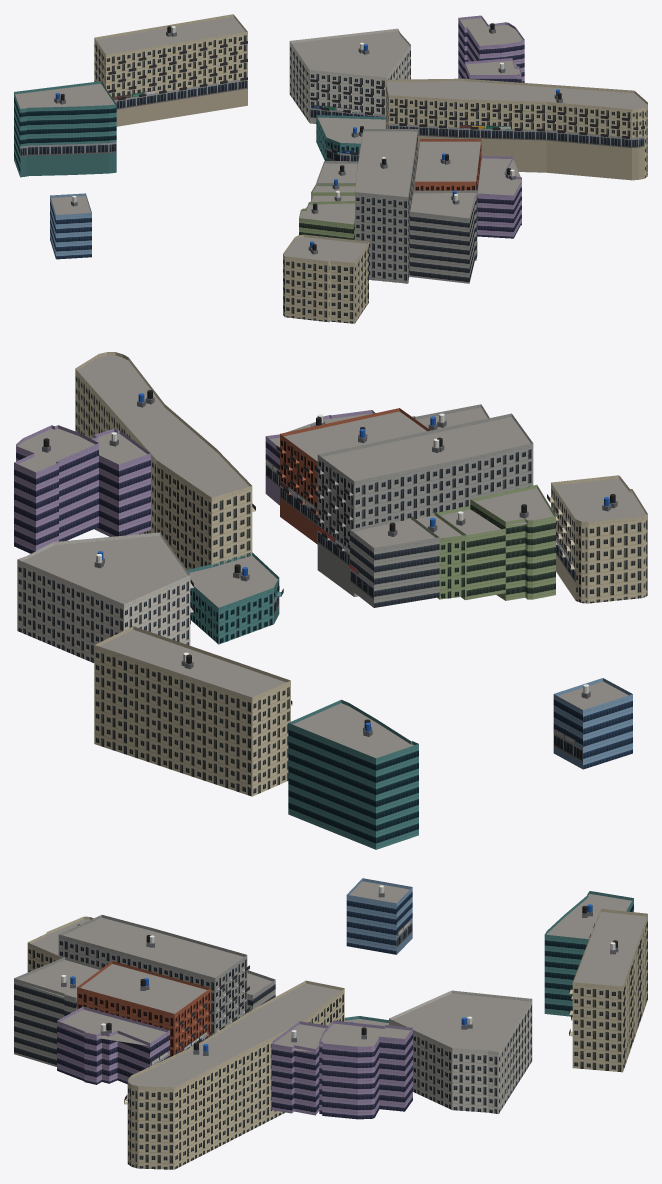
File: session-road-buildings-2.b3051100.glb
3 views of the same model, one above another, from view 1: azimuth 30°, elevation 25°; view 2: azimuth 150°, elevation 25°; view 3: azimuth 270°, elevation 25° (orthographic). The views are drawn at different scales.
Bounding box in the file's own units: 184 × 46.93 × 175.
Materials: 6 (4 with a texture image).
